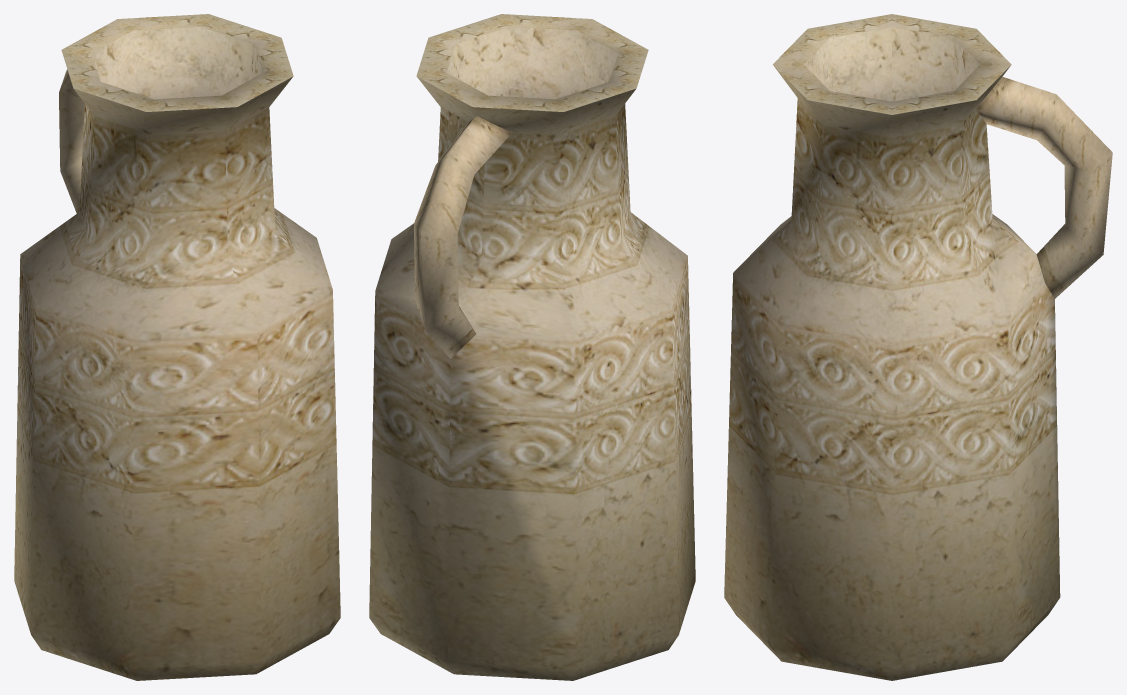
The model's file is jug01.FBX.
3 renders of one model, left to right at view 1: azimuth 30°, elevation 25°; view 2: azimuth 150°, elevation 25°; view 3: azimuth 270°, elevation 25°, orthographic.
Parts seen in each view (by area): view 1: jug01; view 2: jug01; view 3: jug01.
Part boxes in pixels (x1,y1,x2,y2): jug01: (14,14,340,680); jug01: (369,14,695,680); jug01: (724,14,1112,680).
Bounding box in the file's own units: 11.83 × 13.68 × 21.38.
Materials: 1 (1 with a texture image).
